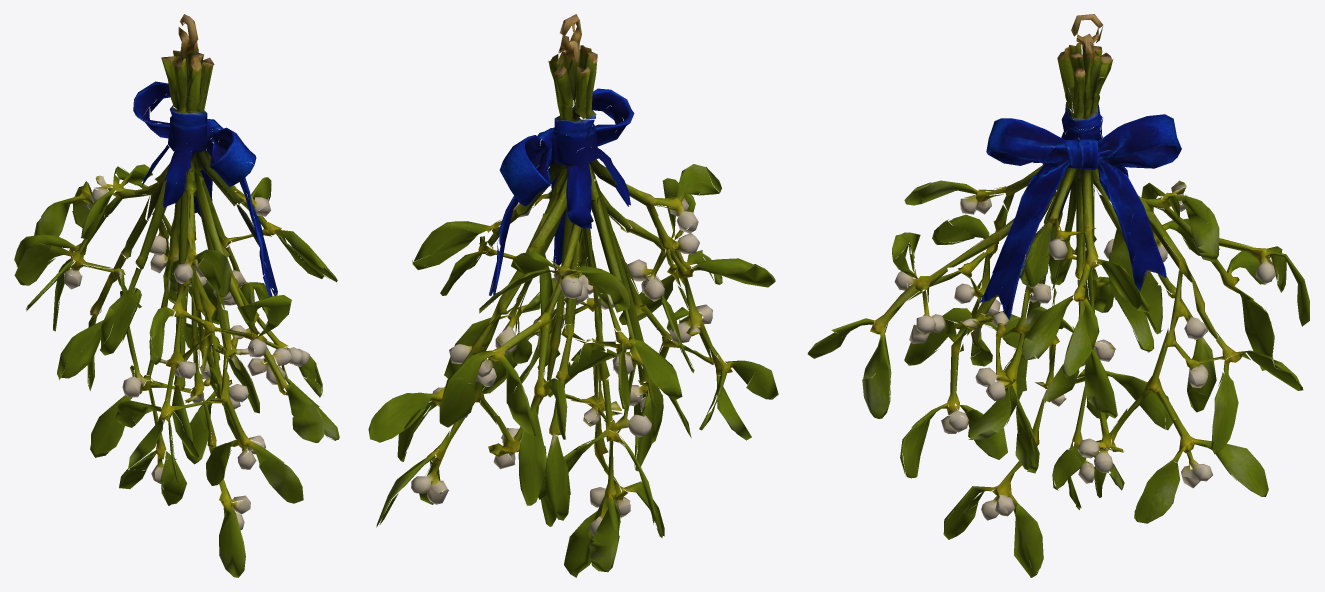
File: lt_mistletoe.glb
The picture shows the model from 3 angles, left to right: view 1: azimuth 30°, elevation 25°; view 2: azimuth 150°, elevation 25°; view 3: azimuth 270°, elevation 25°; orthographic projection. The views are drawn at different scales.
Visible parts, largest first — view 1: tripo_node_99da4001-376a-4ea1-a41d-f6d25d4d996e; view 2: tripo_node_99da4001-376a-4ea1-a41d-f6d25d4d996e; view 3: tripo_node_99da4001-376a-4ea1-a41d-f6d25d4d996e.
Part boxes in pixels (<box>): tripo_node_99da4001-376a-4ea1-a41d-f6d25d4d996e: <box>14,14,339,577</box>; tripo_node_99da4001-376a-4ea1-a41d-f6d25d4d996e: <box>368,14,778,577</box>; tripo_node_99da4001-376a-4ea1-a41d-f6d25d4d996e: <box>807,14,1309,577</box>.
Size of the model in its own units: 0.5085 by 1 by 0.8266.
Materials: 1 (1 with a texture image).
